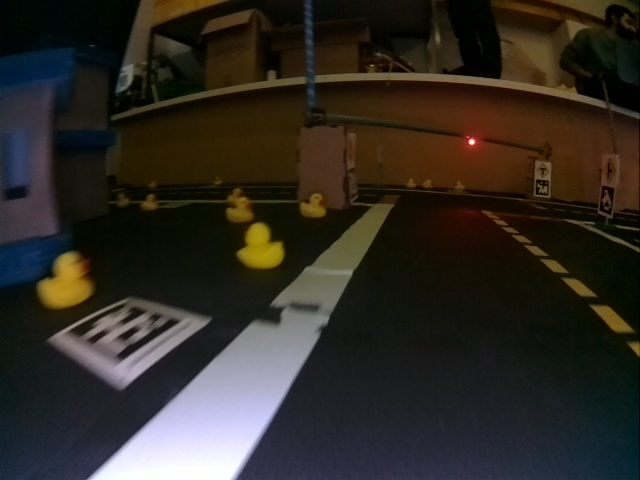Duckie: (38, 253, 92, 305), (236, 223, 284, 268), (300, 194, 326, 216), (228, 199, 252, 219), (140, 194, 157, 210), (227, 188, 244, 201), (405, 179, 415, 188), (424, 180, 433, 189), (456, 182, 464, 191)
Intersection sign: (602, 158, 615, 181), (536, 163, 550, 175)
QR code: (46, 298, 206, 382), (599, 186, 612, 214), (536, 180, 549, 196)
Traffic light: (467, 133, 477, 146)
